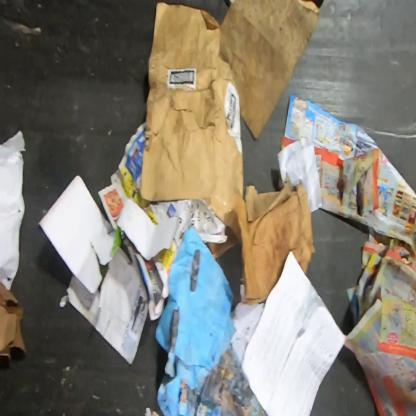cardboard: (140, 1, 244, 259), (220, 0, 321, 141), (235, 181, 316, 306), (37, 175, 122, 294), (0, 282, 28, 363)
